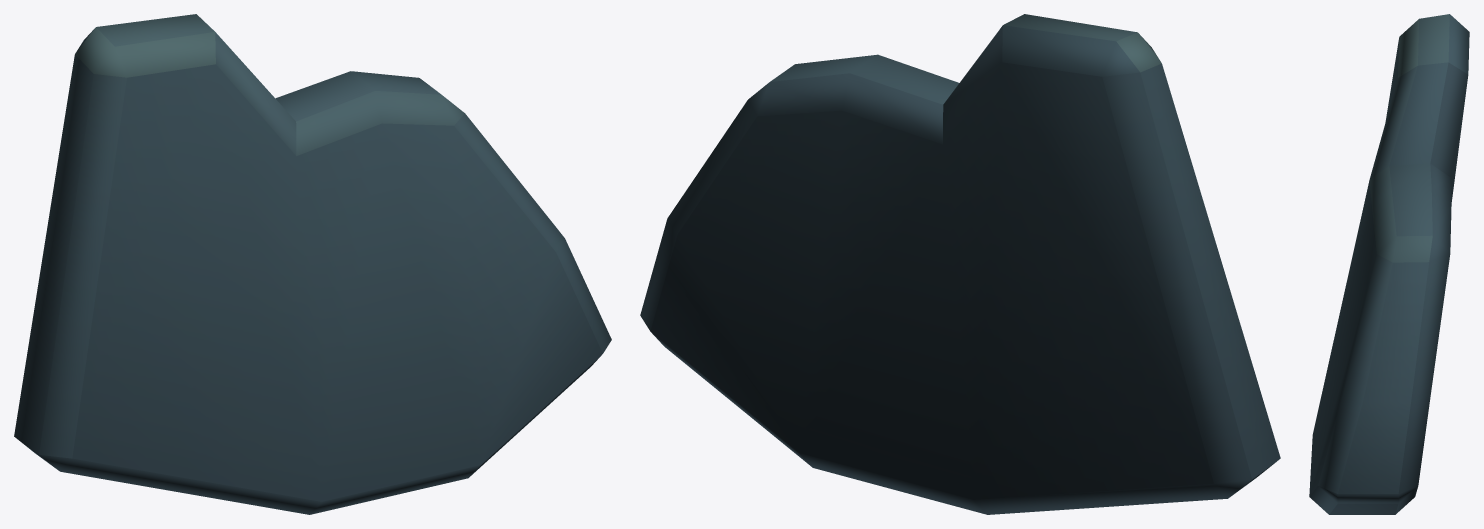
The model's file is rock_10.fbx.
3 renders of one model, left to right at view 1: azimuth 30°, elevation 25°; view 2: azimuth 150°, elevation 25°; view 3: azimuth 270°, elevation 25°, orthographic. The views are drawn at different scales.
Visible parts, largest first — view 1: rock_10; view 2: rock_10; view 3: rock_10.
Part boxes in pixels (box(x1,y1,x2,y2)): rock_10: box(14, 14, 611, 514); rock_10: box(640, 14, 1280, 514); rock_10: box(1309, 14, 1469, 514).
Bounding box in the file's own units: 207 × 170 × 64.47.
